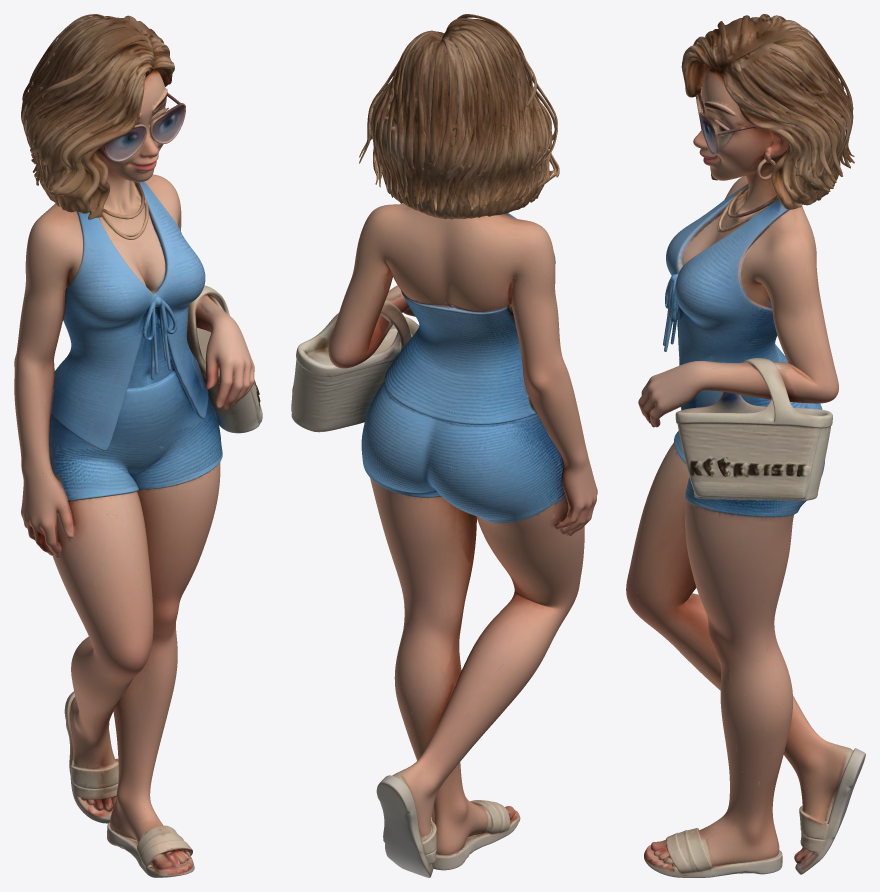
Rendered from Convert_Waving.glb.
3 views of the same model, side by side, from view 1: azimuth 30°, elevation 25°; view 2: azimuth 150°, elevation 25°; view 3: azimuth 270°, elevation 25° (orthographic).
Parts seen in each view (by area): view 1: Object_8, Object_5, Object_7, Object_4, Object_6; view 2: Object_7, Object_6, Object_5, Object_8, Object_4; view 3: Object_7, Object_5, Object_6, Object_8, Object_4.
Part boxes in pixels (left/top/right/bottom): Object_8: left=26, top=48, right=239, bottom=877; Object_5: left=14, top=38, right=254, bottom=673; Object_7: left=21, top=39, right=262, bottom=877; Object_4: left=23, top=16, right=165, bottom=232; Object_6: left=21, top=14, right=185, bottom=558; Object_7: left=291, top=64, right=555, bottom=877; Object_6: left=347, top=29, right=596, bottom=635; Object_5: left=297, top=27, right=597, bottom=641; Object_8: left=374, top=67, right=557, bottom=869; Object_4: left=437, top=14, right=559, bottom=218; Object_7: left=626, top=37, right=865, bottom=877; Object_5: left=638, top=36, right=838, bottom=435; Object_6: left=677, top=14, right=854, bottom=653; Object_8: left=626, top=44, right=865, bottom=875; Object_4: left=681, top=14, right=786, bottom=225.
Size of the model in its own units: 0.3785 by 1.18 by 0.3068.
Materials: 1 (1 with a texture image).
